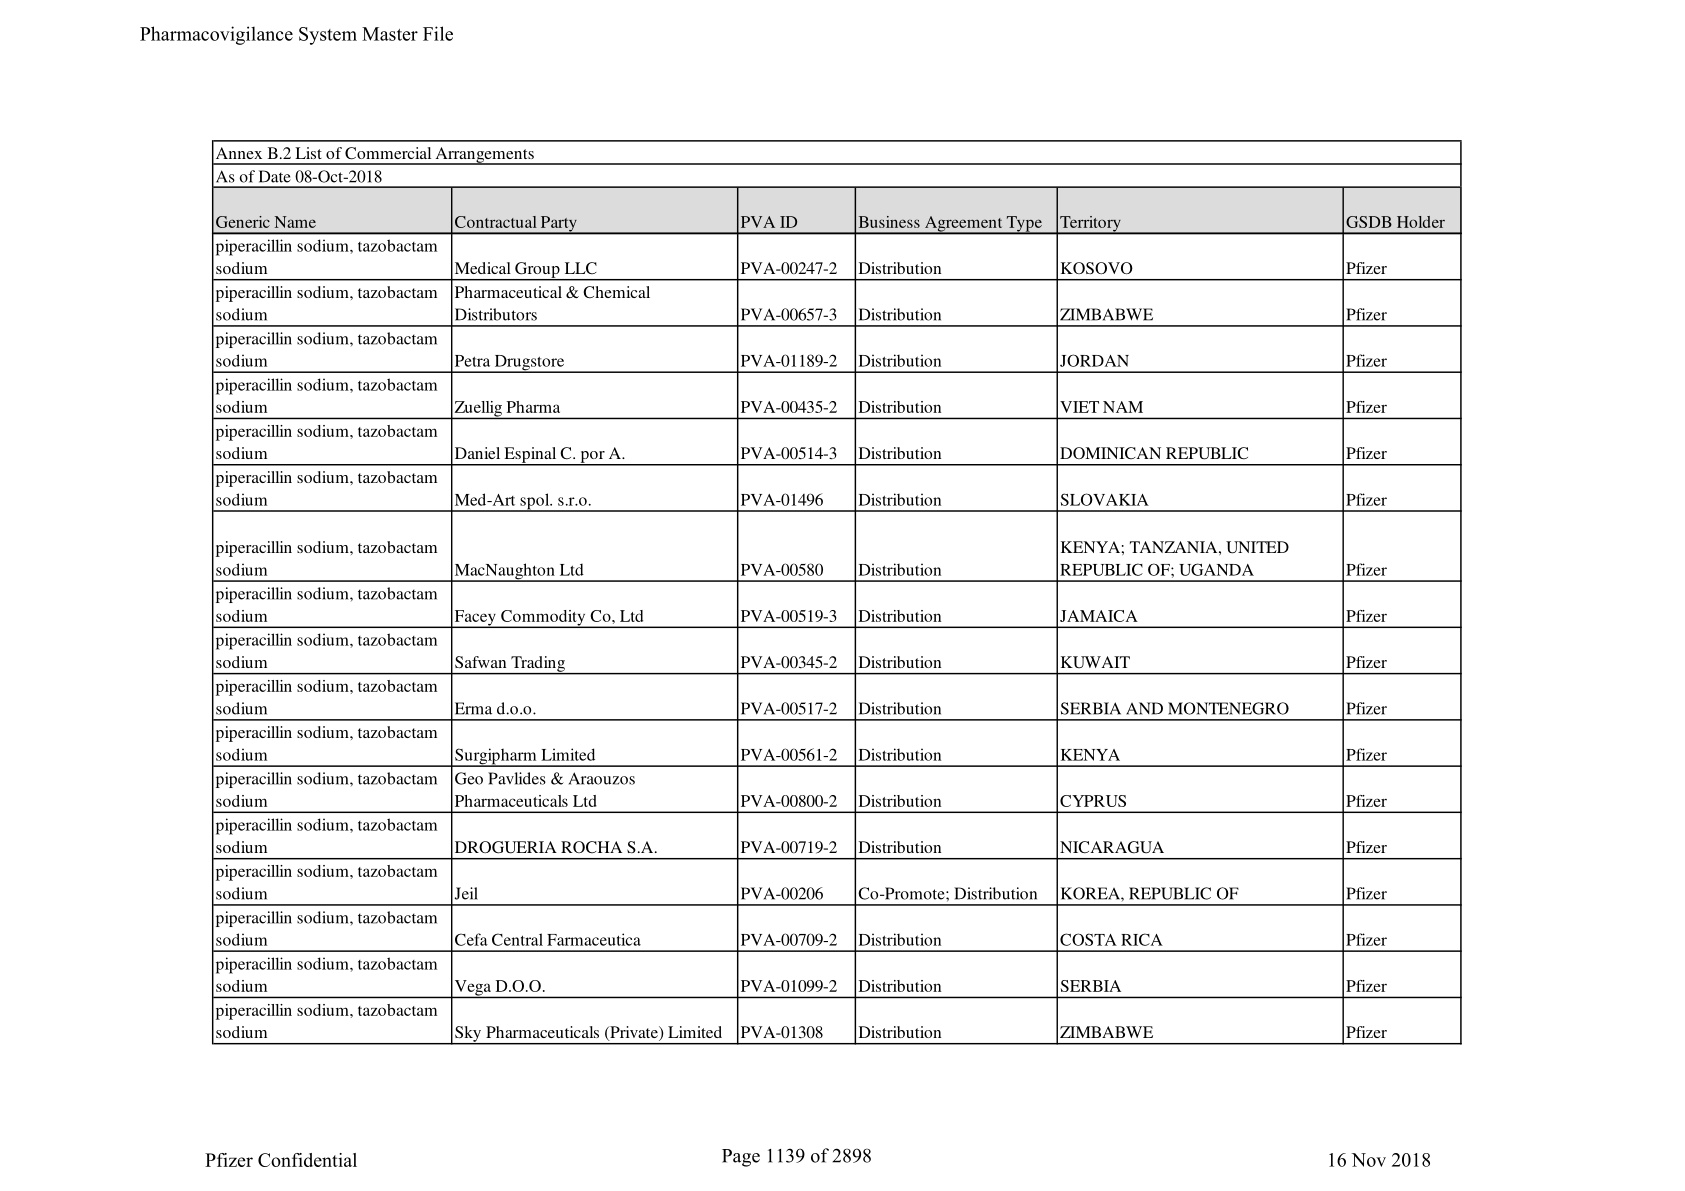merged_cells: (210, 138, 1463, 1045)
